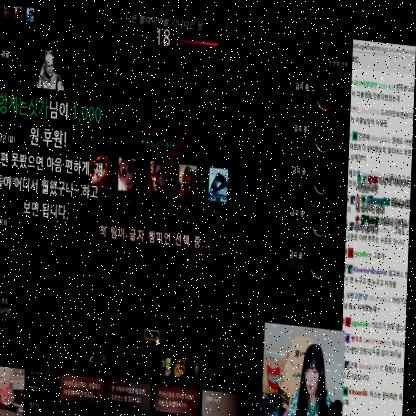donation: (0, 42, 108, 224)
streamer: (273, 332, 339, 416)
